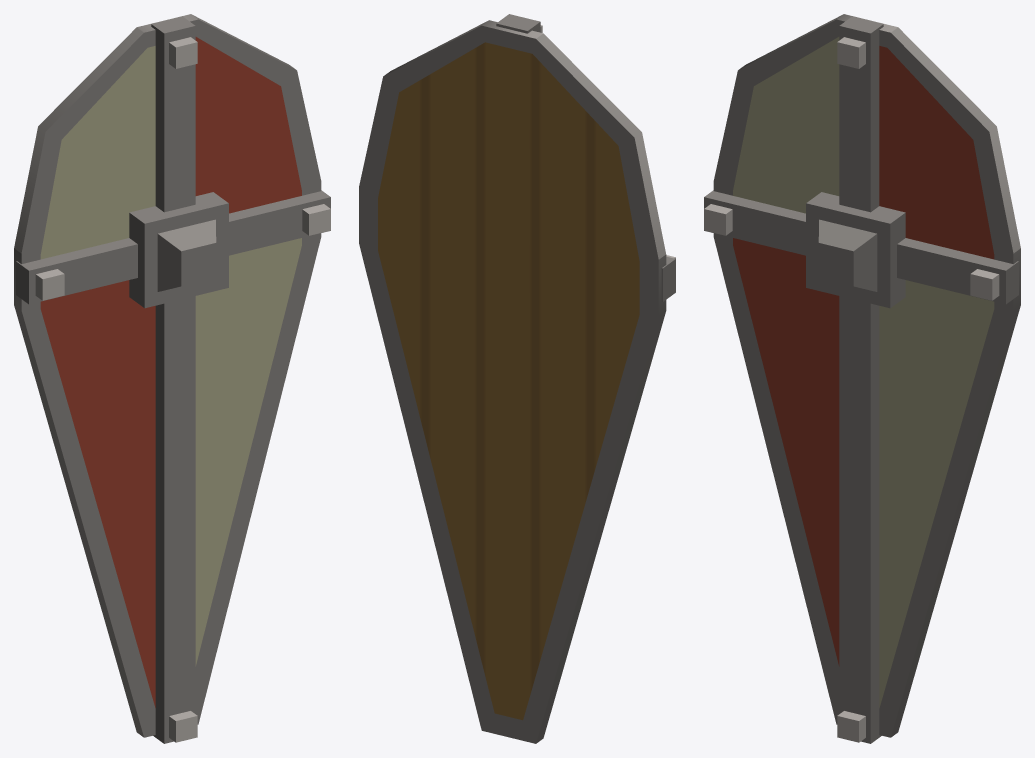
The model's file is SF_Wep_KiteShield_Pattern_012.fbx.
3 renders of one model, left to right at view 1: azimuth 30°, elevation 25°; view 2: azimuth 150°, elevation 25°; view 3: azimuth 330°, elevation 25°, orthographic.
Parts seen in each view (by area): view 1: SF_Wep_KiteShield_Pattern_012; view 2: SF_Wep_KiteShield_Pattern_012; view 3: SF_Wep_KiteShield_Pattern_012.
Part boxes in pixels (<box>): SF_Wep_KiteShield_Pattern_012: <box>14,14,330,743</box>; SF_Wep_KiteShield_Pattern_012: <box>359,14,675,743</box>; SF_Wep_KiteShield_Pattern_012: <box>704,14,1020,743</box>.
Bounding box in the file's own units: 0.9946 × 2.24 × 0.1992.
